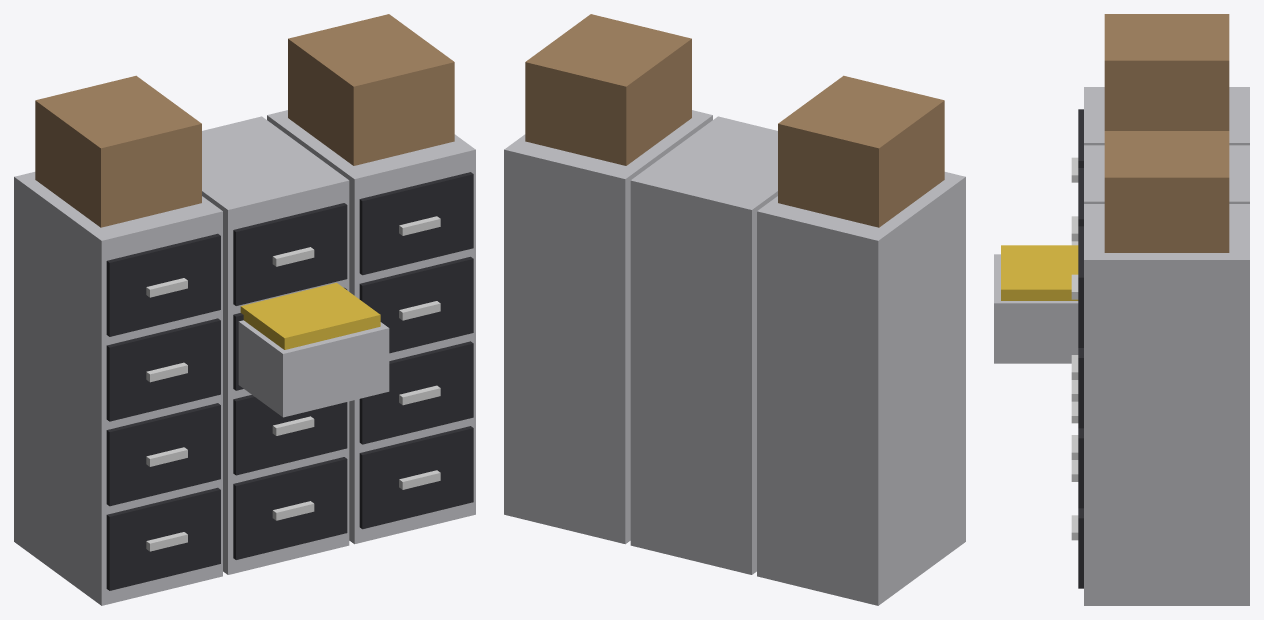
The model's file is interior_office_filing.glb.
The picture shows the model from 3 angles, left to right: view 1: azimuth 30°, elevation 25°; view 2: azimuth 150°, elevation 25°; view 3: azimuth 270°, elevation 25°; orthographic projection. The views are drawn at different scales.
Visible parts, largest first — view 1: interior_office_filing; view 2: interior_office_filing; view 3: interior_office_filing.
Part boxes in pixels (x1,y1,x2,y2): interior_office_filing: (14, 14, 475, 605); interior_office_filing: (504, 14, 965, 605); interior_office_filing: (994, 14, 1249, 605).
Bounding box in the file's own units: 1.48 × 1.69 × 0.925.
Materials: 1 (1 with a texture image).
